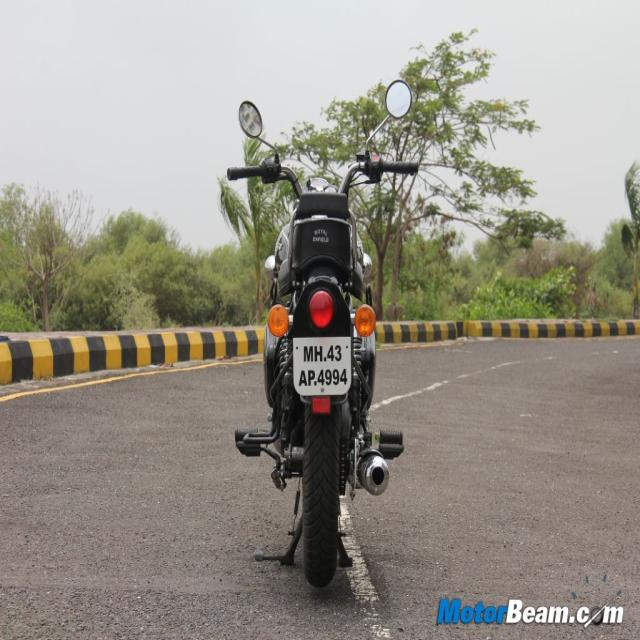number plate: (292, 334, 352, 396)
